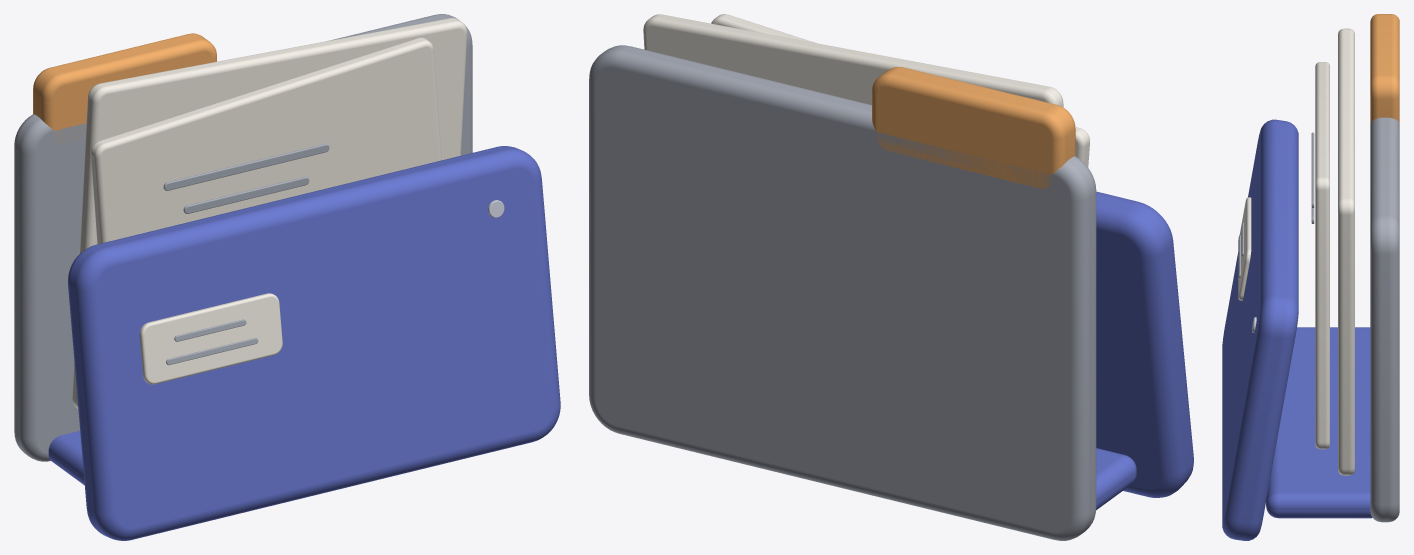
Rendered from folder.glb.
3 views of the same model, side by side, from view 1: azimuth 30°, elevation 25°; view 2: azimuth 150°, elevation 25°; view 3: azimuth 270°, elevation 25° (orthographic). The views are drawn at different scales.
Parts seen in each view (by area): view 1: folder; view 2: folder; view 3: folder.
Part boxes in pixels (x1,y1,x2,y2): folder: (14,14,560,540); folder: (589,14,1193,540); folder: (1222,14,1399,540).
Size of the model in its own units: 2.08 by 1.73 by 0.7837.
